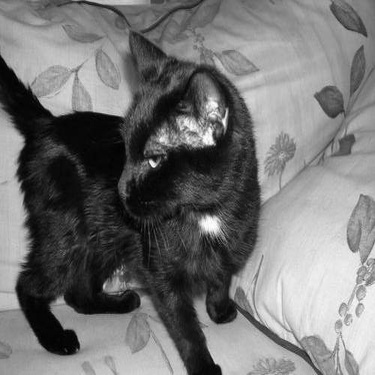cat: (2, 27, 259, 373)
